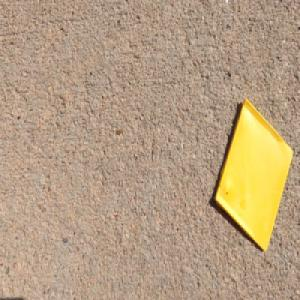PlasticPart: (212, 96, 293, 252)
